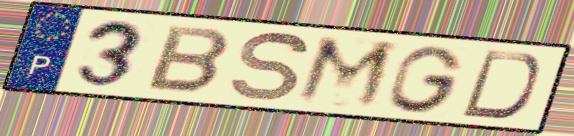3: (71, 17, 153, 91)
B: (142, 22, 235, 95)
D: (457, 48, 544, 121)
G: (386, 43, 468, 115)
M: (290, 33, 402, 112)
S: (228, 29, 313, 104)
